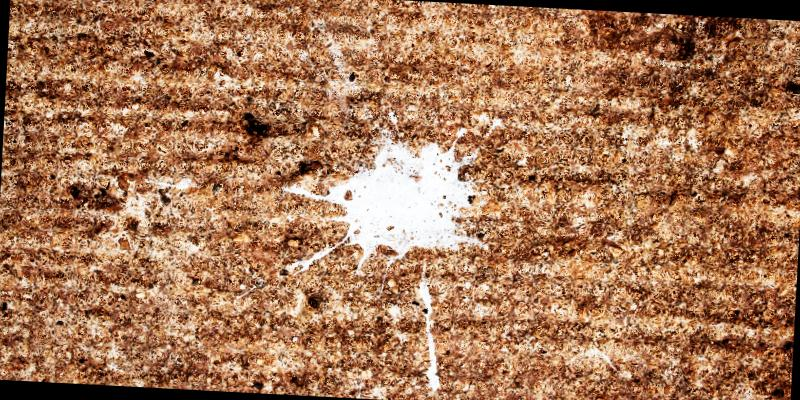Bird Poop: (284, 139, 487, 273), (418, 281, 439, 390), (285, 248, 334, 272)
